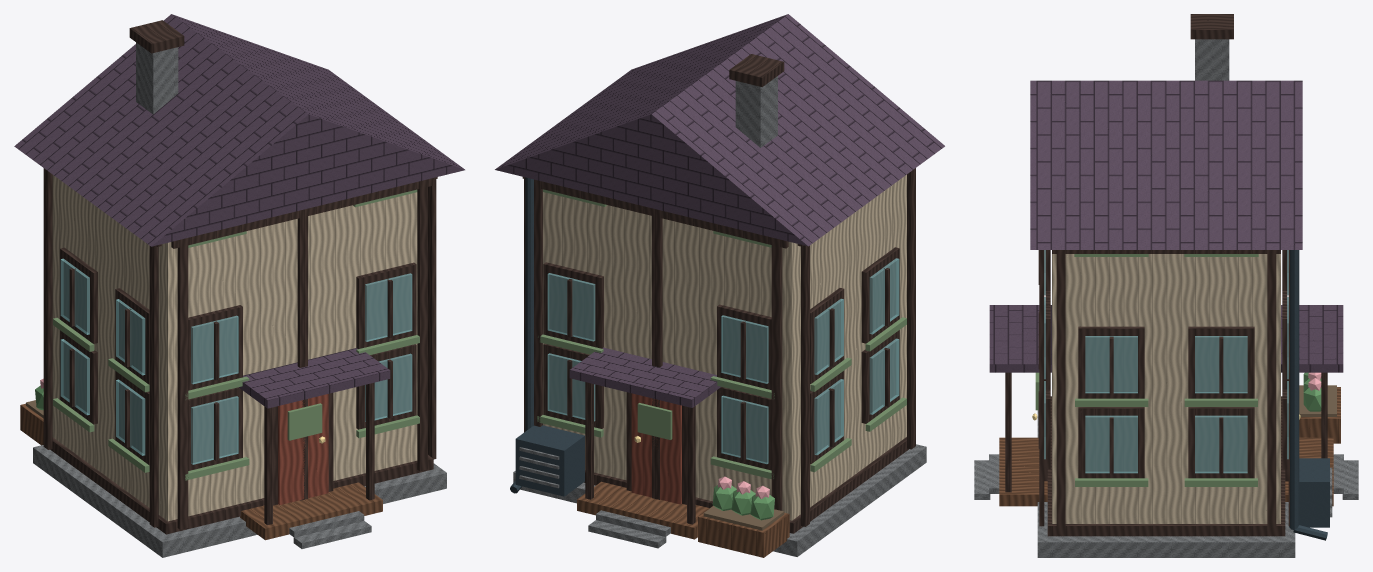
The model's file is house_tudor_lv3.glb.
3 views of the same model, side by side, from view 1: azimuth 30°, elevation 25°; view 2: azimuth 150°, elevation 25°; view 3: azimuth 270°, elevation 25° (orthographic).
Parts seen in each view (by area): view 1: gable_roof, walls, foundation, front_porch_canopy, front_window_frame.003, front_door, floor_trim, front_window_frame.002, front_deck, front_window_frame, front_timber, front_timber.002 (+30 smaller); view 2: gable_roof, walls, back_porch_canopy, foundation, back_window_frame.003, back_ac_unit, back_window_frame.002, back_door, back_window_frame, back_timber, back_deck, back_window_frame.001 (+32 smaller); view 3: gable_roof, walls, foundation, right_window_frame.002, right_window_frame.003, right_window_frame, right_window_frame.001, floor_trim, front_porch_canopy, back_porch_canopy, right_window_glass, right_window_glass.001 (+27 smaller).
Part boxes in pixels (x1,y1,x2,y2): gable_roof: [14, 14, 464, 246]; walls: [52, 175, 417, 521]; foundation: [33, 445, 446, 557]; front_porch_canopy: [239, 348, 390, 408]; front_window_frame.003: [356, 262, 416, 348]; front_door: [278, 394, 328, 504]; floor_trim: [50, 437, 433, 534]; front_window_frame.002: [188, 305, 242, 390]; front_deck: [240, 482, 382, 540]; front_window_frame: [188, 387, 242, 470]; front_timber: [177, 238, 188, 529]; front_timber.002: [417, 179, 427, 471]; gable_roof: [495, 14, 944, 246]; walls: [543, 174, 906, 520]; back_porch_canopy: [569, 347, 721, 407]; foundation: [513, 444, 926, 556]; back_window_frame.003: [543, 262, 603, 348]; back_ac_unit: [515, 425, 584, 496]; back_window_frame.002: [717, 304, 771, 389]; back_door: [631, 393, 681, 504]; back_window_frame: [717, 387, 771, 470]; back_timber: [771, 237, 782, 510]; back_deck: [577, 481, 709, 539]; back_window_frame.001: [543, 343, 603, 428]; gable_roof: [1030, 80, 1302, 249]; walls: [1052, 254, 1280, 523]; foundation: [1037, 410, 1295, 557]; right_window_frame.002: [1078, 326, 1144, 398]; right_window_frame.003: [1188, 326, 1254, 398]; right_window_frame: [1078, 407, 1144, 478]; right_window_frame.001: [1188, 407, 1254, 478]; floor_trim: [1047, 396, 1285, 536]; front_porch_canopy: [989, 305, 1051, 372]; back_porch_canopy: [1281, 305, 1343, 372]; right_window_glass: [1085, 415, 1137, 473]; right_window_glass.001: [1195, 415, 1247, 473].
Size of the model in its own units: 3.15 by 4.22 by 3.36.
Materials: 13 (7 with a texture image).
